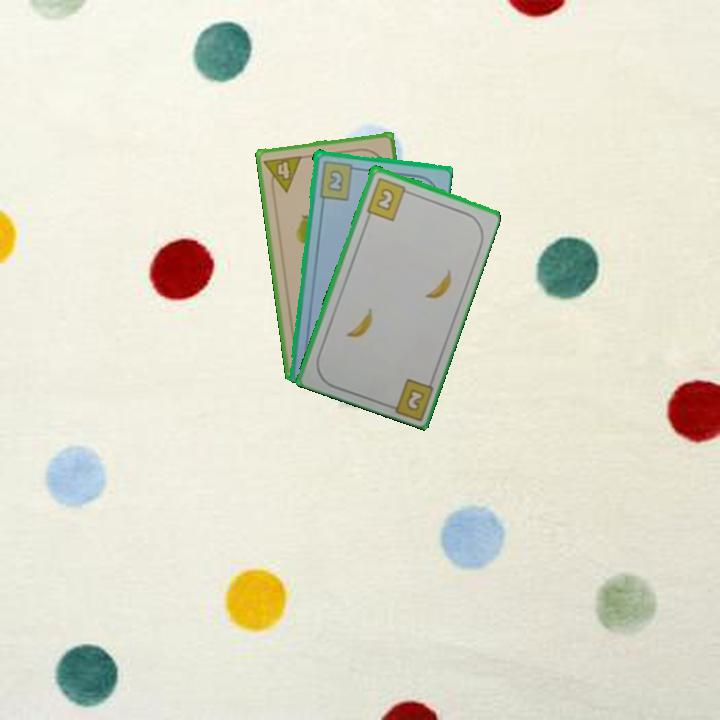2b: (363, 174, 413, 223), (316, 157, 361, 202), (402, 385, 427, 414)
4p: (260, 152, 305, 196)
